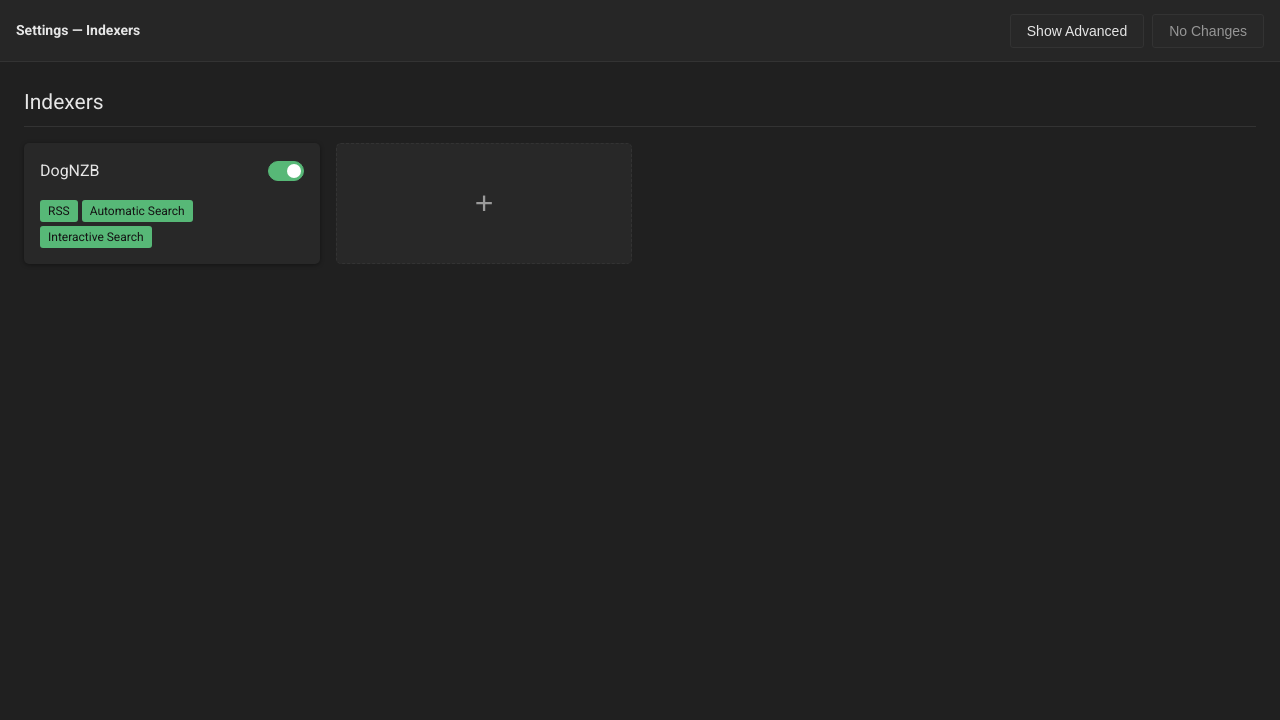
it: FRG-UI-008: schema-driven add/edit modal › FRG-UI-008 — Show Advanced reveals advanced schema and row fields in the modal
Click the button "Show Advanced": (1077, 30) [1010, 14, 1144, 48]
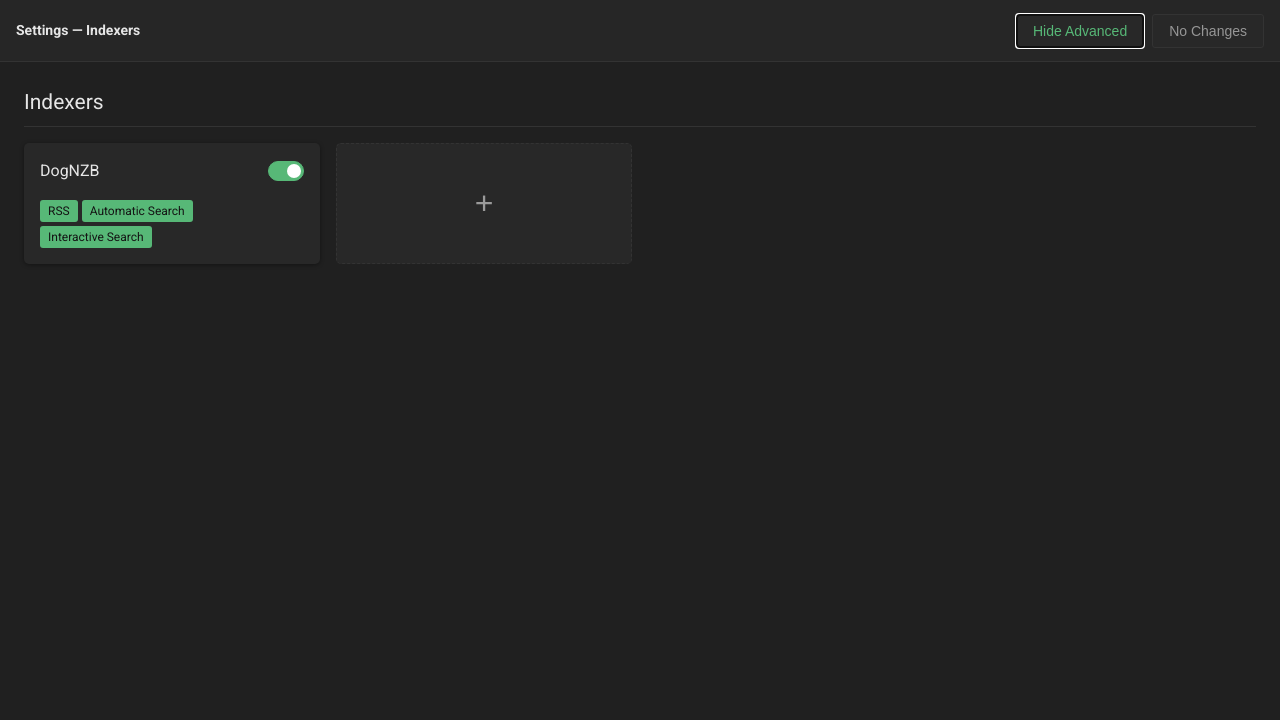
Click the element with test id "provider-card-1": (172, 204) [24, 143, 320, 264]
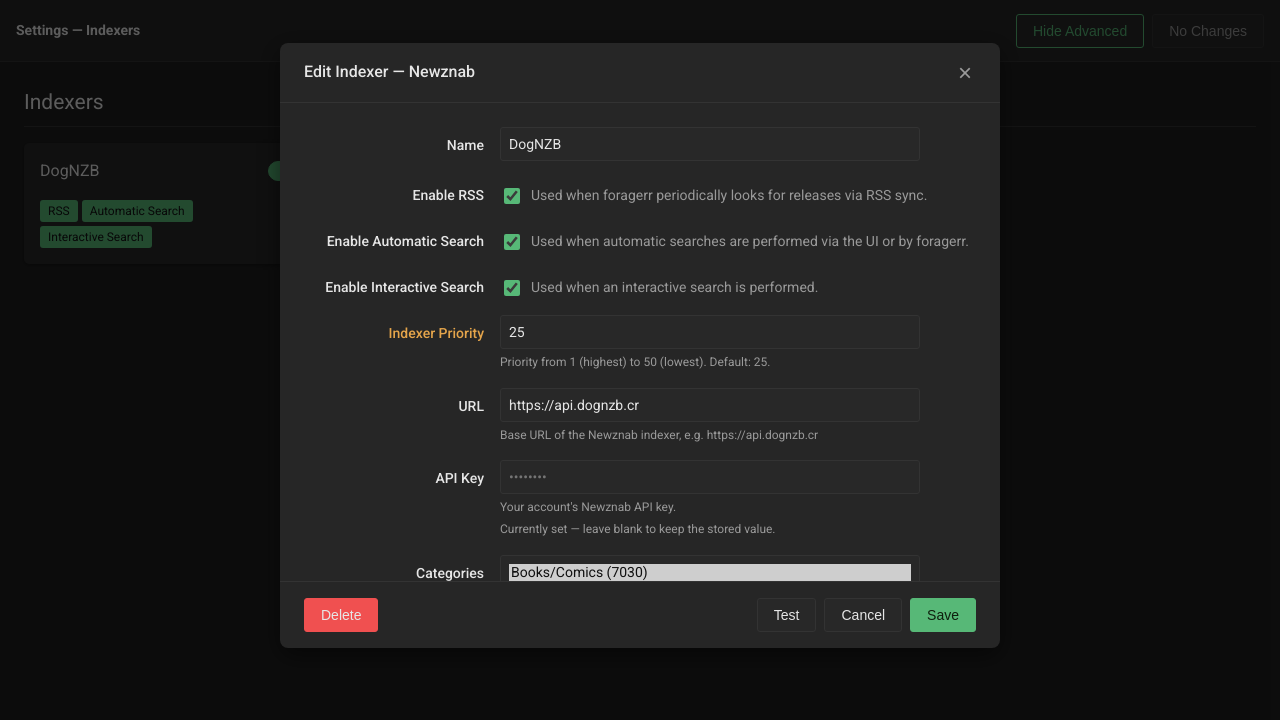
Now the number field labelled "Indexer Priority" holds "25", box [500, 315, 920, 349]
